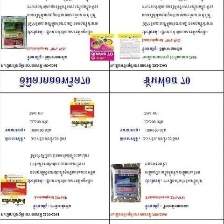insecticide: (109, 160, 142, 204), (0, 170, 30, 209), (66, 94, 96, 133), (0, 12, 30, 49), (86, 31, 115, 61)
